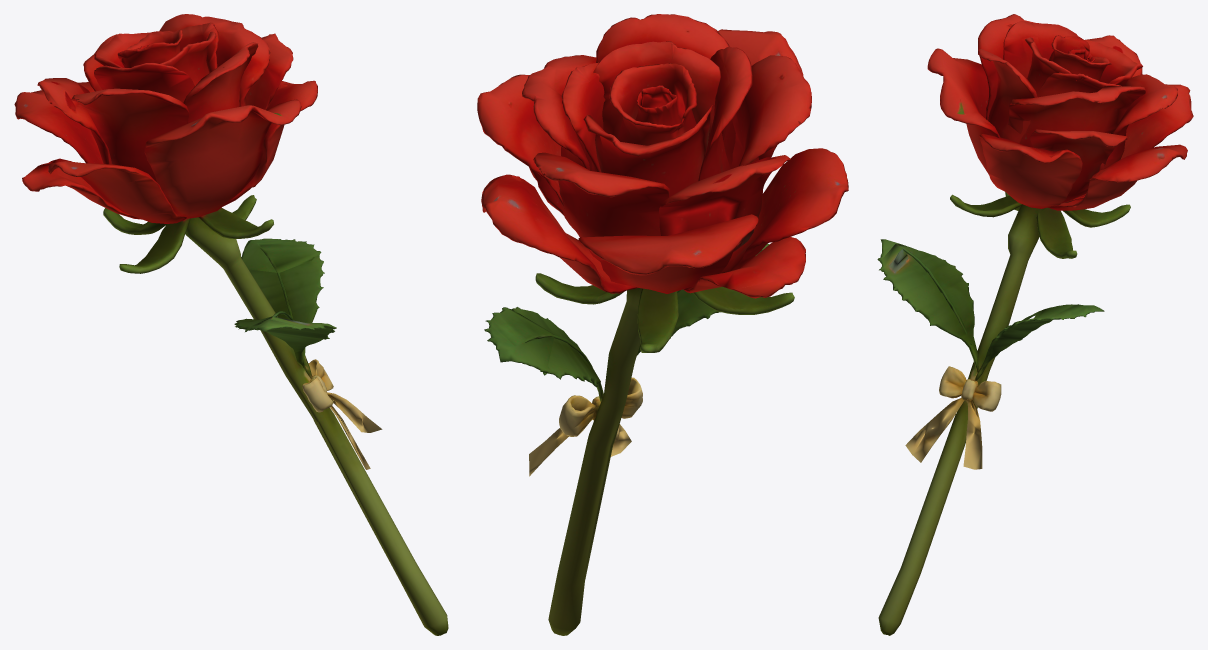
File: royal-rose.glb
3 views of the same model, side by side, from view 1: azimuth 30°, elevation 25°; view 2: azimuth 150°, elevation 25°; view 3: azimuth 270°, elevation 25° (orthographic). The views are drawn at different scales.
Parts seen in each view (by area): view 1: tripo_node_56b69f33-6385-4378-80fb-00407e4a6044; view 2: tripo_node_56b69f33-6385-4378-80fb-00407e4a6044; view 3: tripo_node_56b69f33-6385-4378-80fb-00407e4a6044.
Part boxes in pixels (x1,y1,x2,y2): tripo_node_56b69f33-6385-4378-80fb-00407e4a6044: [14, 14, 448, 635]; tripo_node_56b69f33-6385-4378-80fb-00407e4a6044: [477, 14, 848, 635]; tripo_node_56b69f33-6385-4378-80fb-00407e4a6044: [877, 14, 1193, 635].
Bounding box in the file's own units: 0.5684 × 0.998 × 0.5527.
1 material, 1 textured.
